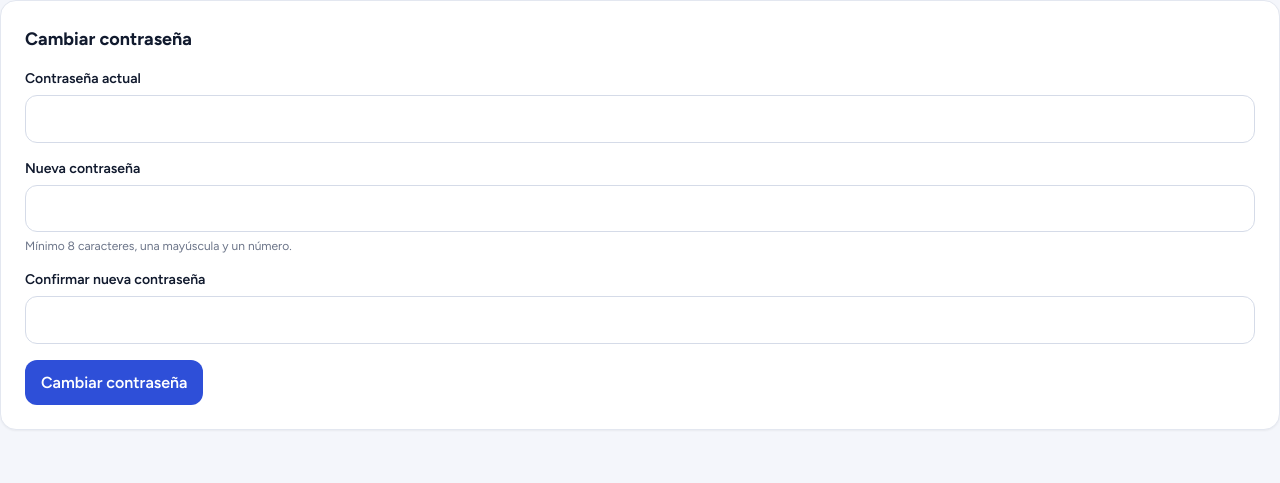
it: FormCambioPassword › cambia la contraseña, limpia el formulario y avisa del cierre de otras sesiones
Type "Actual123" into the password field labelled "Contraseña actual" at (640, 119), box [25,95,1255,143]
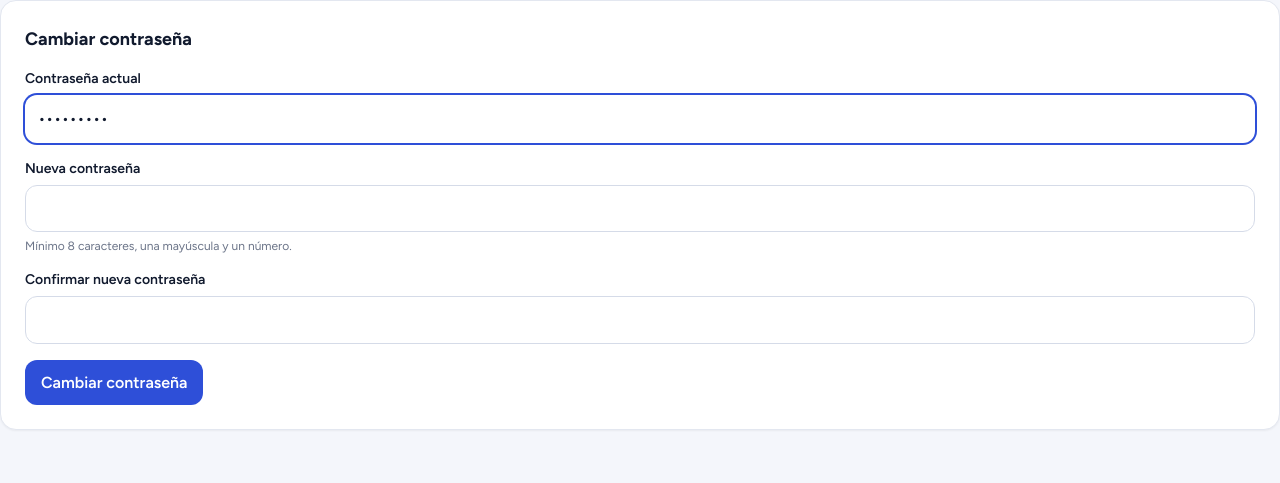
Type "Nueva4567" into the password field labelled "Nueva contraseña" at (640, 208), box [25,185,1255,232]
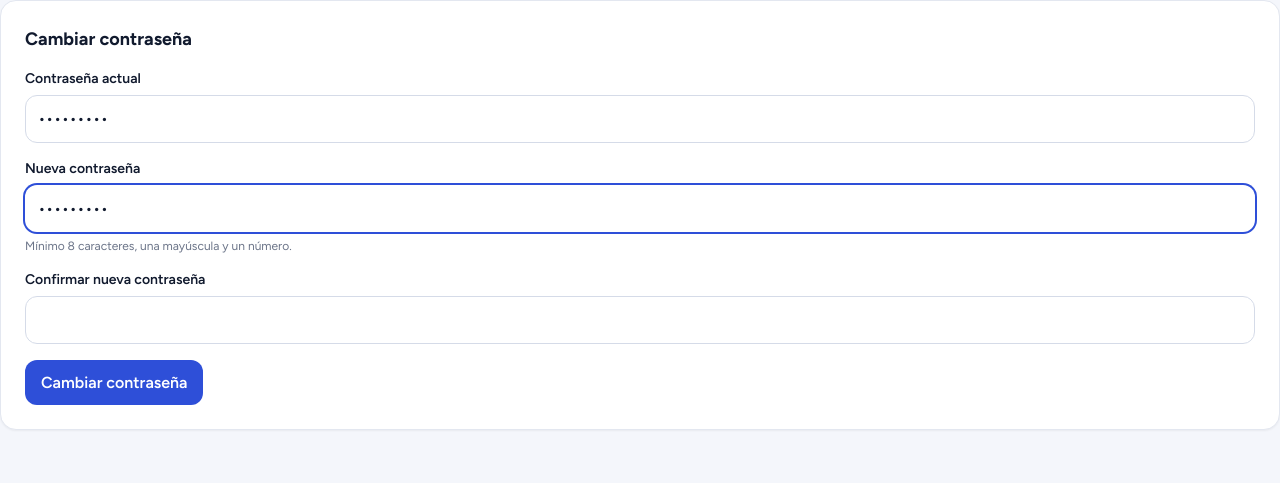
Type "Nueva4567" into the password field labelled "Confirmar nueva contraseña" at (640, 320), box [25,296,1255,344]
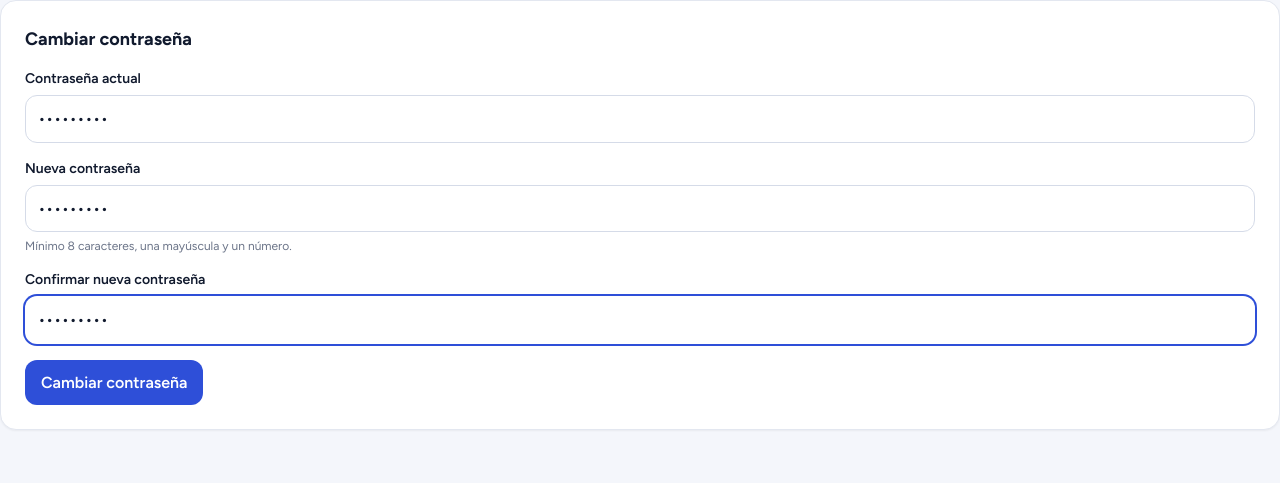
Click the button "Cambiar contraseña" at (114, 383), box [25,360,204,405]
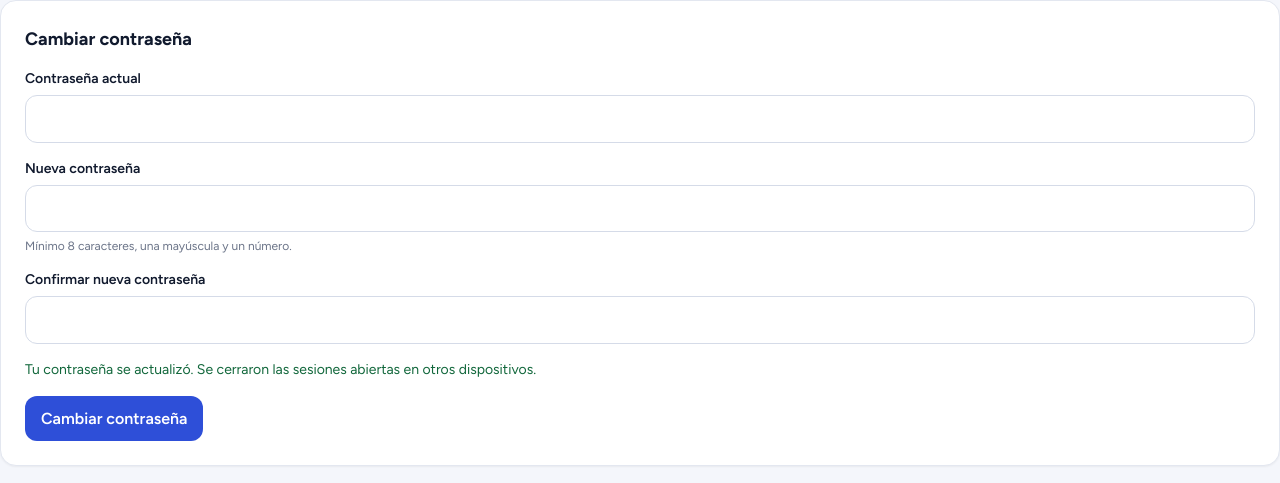
expect the message shows "Se cerraron las sesiones abiertas": met, box [25,361,536,378]
expect the password field labelled "Contraseña actual" is empty: met, box [25,95,1255,143]
expect the password field labelled "Nueva contraseña" is empty: met, box [25,185,1255,232]
